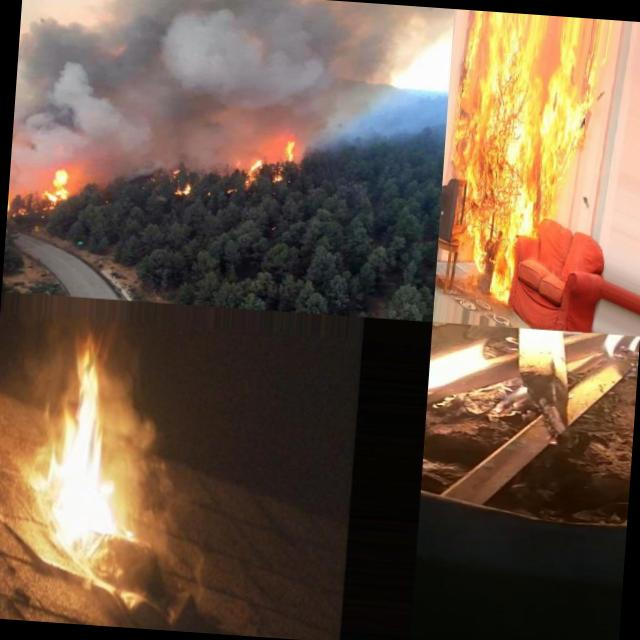fire: (426, 322, 640, 432), (444, 36, 530, 300), (34, 334, 118, 536), (519, 42, 602, 192), (235, 132, 312, 190), (35, 165, 81, 211), (516, 188, 541, 235), (166, 162, 195, 198), (538, 188, 556, 220), (6, 190, 16, 226)
smoke: (14, 0, 454, 142), (102, 358, 222, 606), (37, 116, 170, 174), (168, 123, 240, 166), (8, 112, 40, 192)
